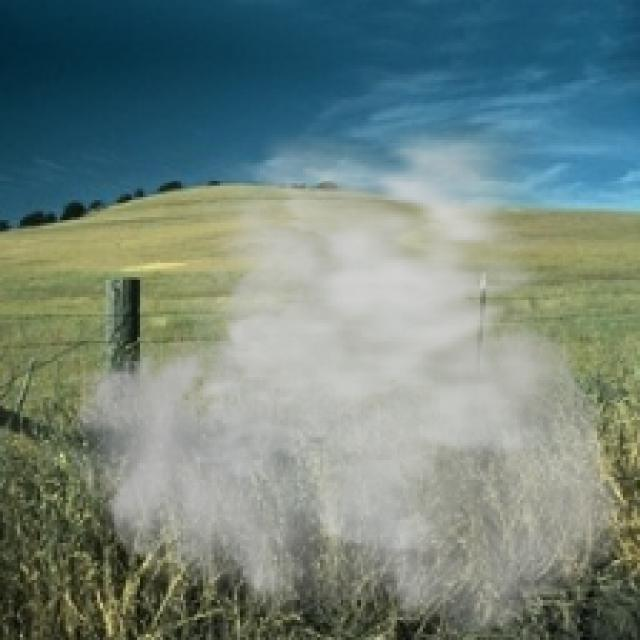smoke: (66, 100, 634, 637)
